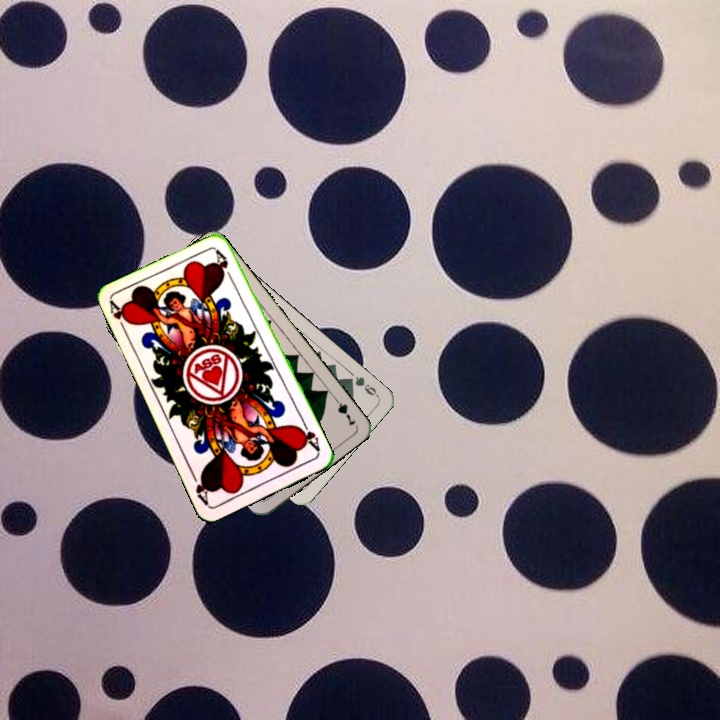G7: (329, 392, 358, 429)
G9: (342, 372, 380, 399)
HA: (293, 417, 323, 454), (105, 298, 133, 336)
